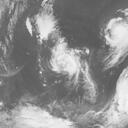cyclone: (50, 45, 89, 78)
